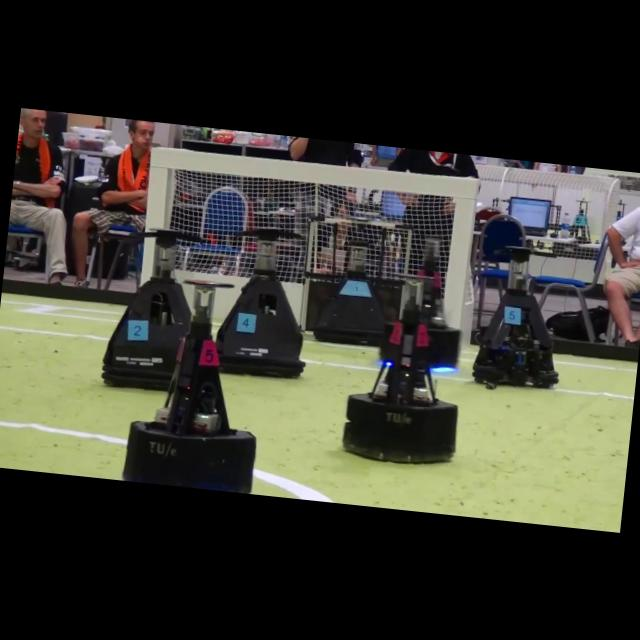robot: (122, 281, 256, 493), (342, 280, 458, 462), (302, 213, 411, 345), (102, 229, 191, 389), (216, 228, 304, 377), (472, 245, 558, 388), (418, 236, 461, 367)
